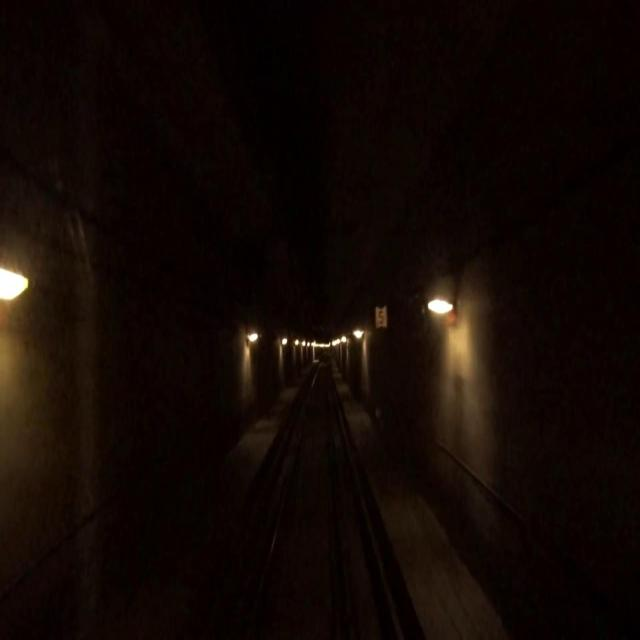rail-track: (254, 361, 333, 639)
